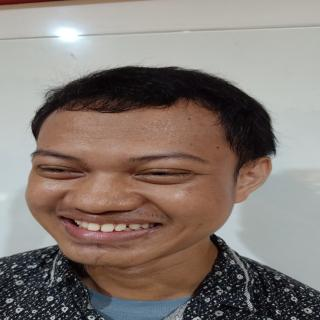Senang: (23, 97, 247, 273)
